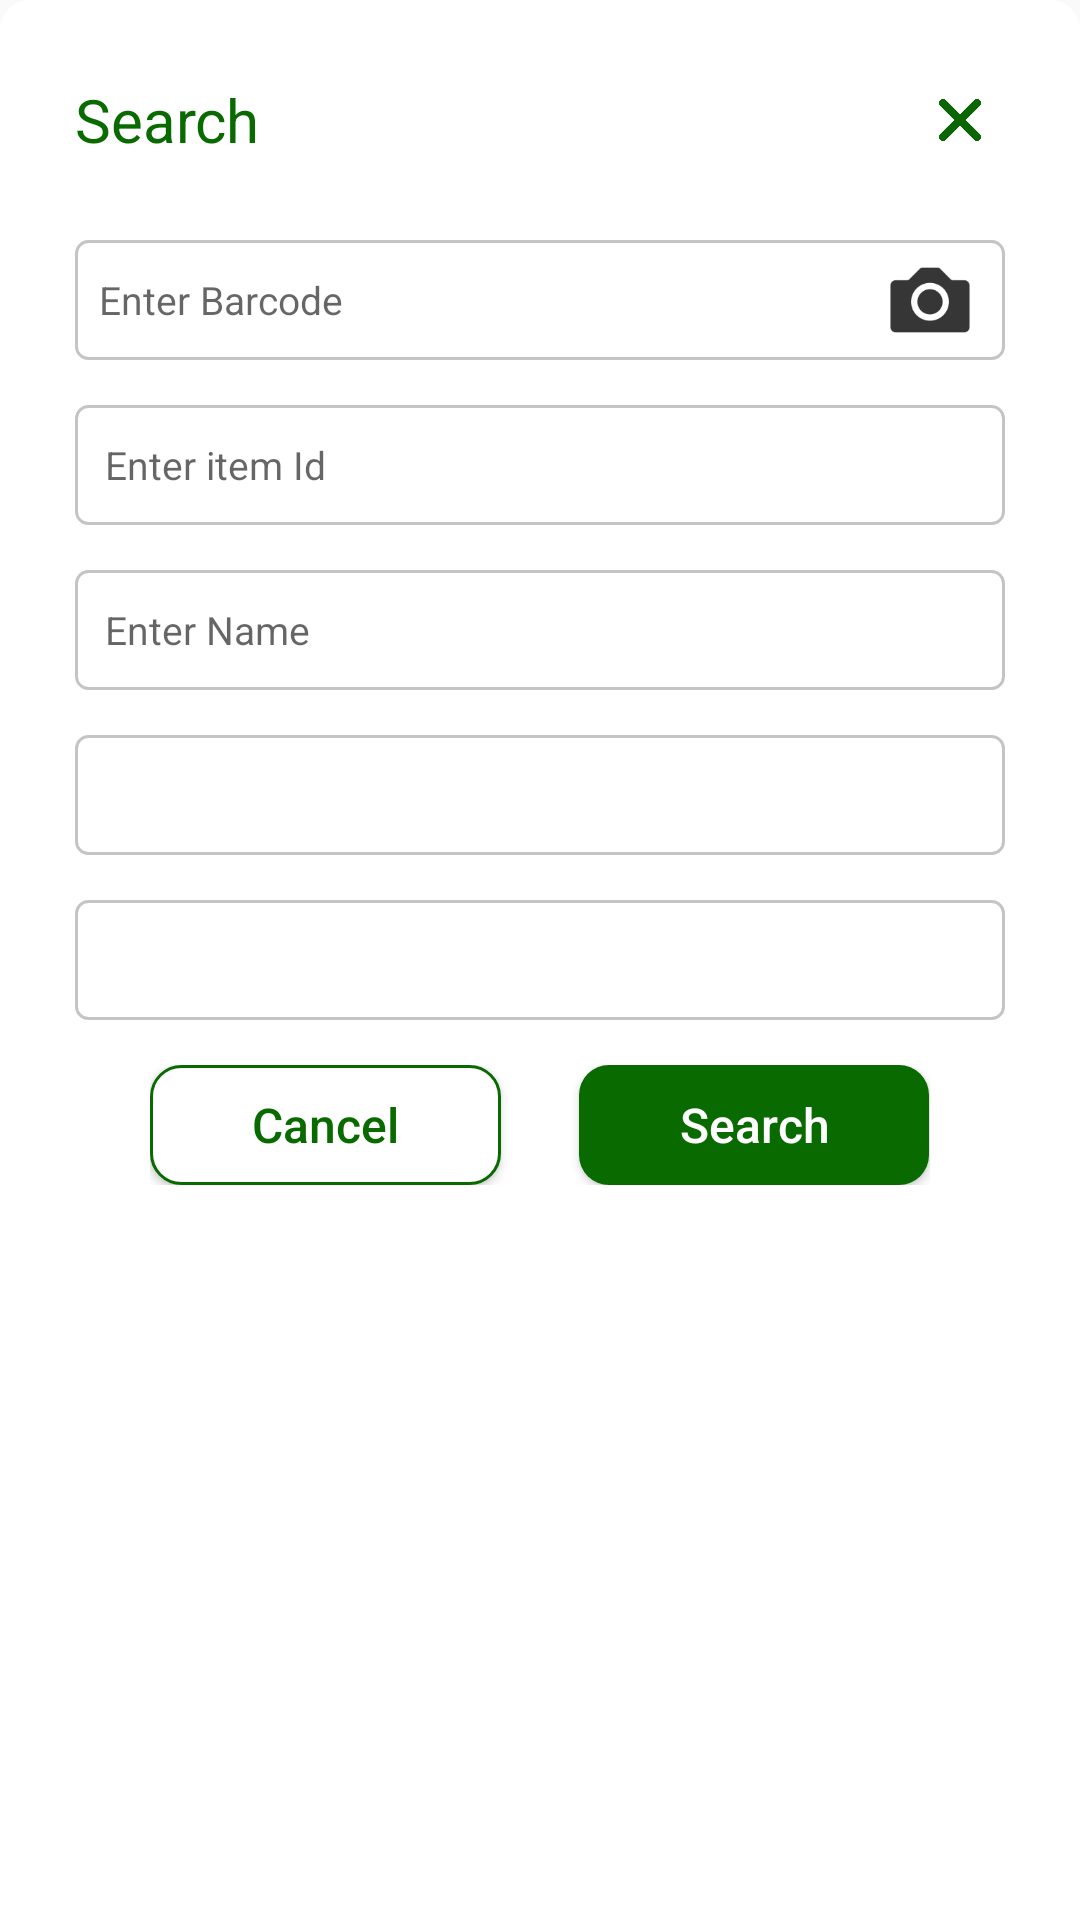

Screen size 1080w x 1920h. Icon name, then its box in pixels as (x1, y1, x2, y2):
camera: (890, 267, 970, 333)
cross: (939, 99, 981, 141)
